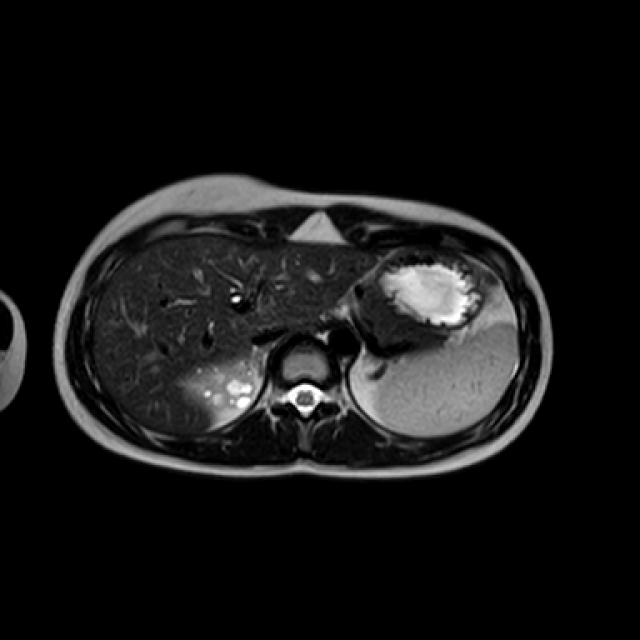sag: (184, 357, 256, 420)
